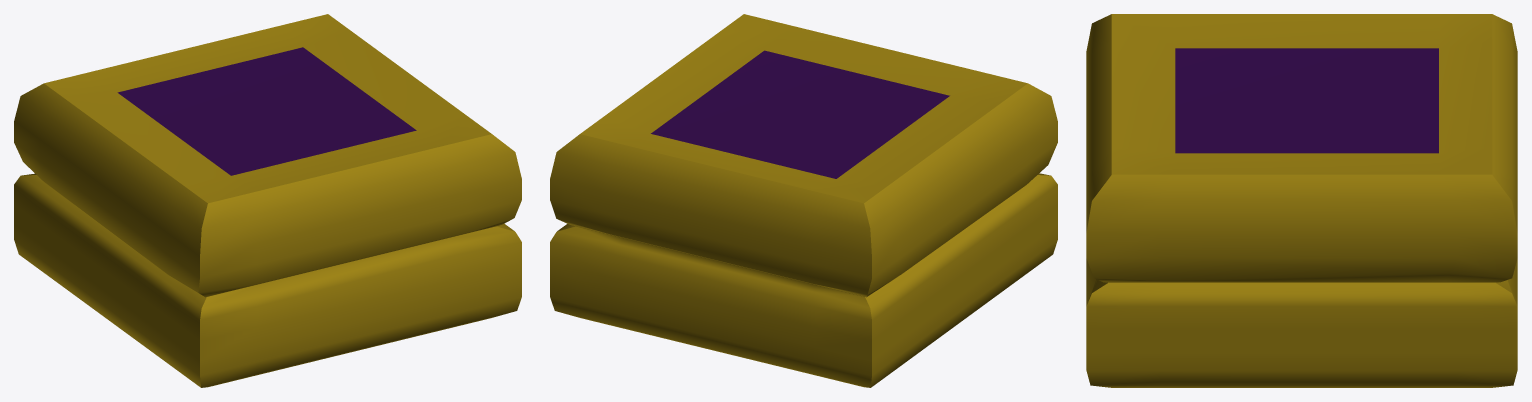
Rendered from bloque_id_mesh.fbx.
3 renders of one model, left to right at view 1: azimuth 30°, elevation 25°; view 2: azimuth 150°, elevation 25°; view 3: azimuth 270°, elevation 25°, orthographic. The views are drawn at different scales.
Visible parts, largest first — view 1: bloque; view 2: bloque; view 3: bloque.
Boxes of the visible parts, left/top/right/bottom form: bloque: left=14, top=14, right=521, bottom=387; bloque: left=550, top=14, right=1057, bottom=387; bloque: left=1086, top=14, right=1517, bottom=387.
Bounding box in the file's own units: 2.02 × 1.1 × 2.02.
